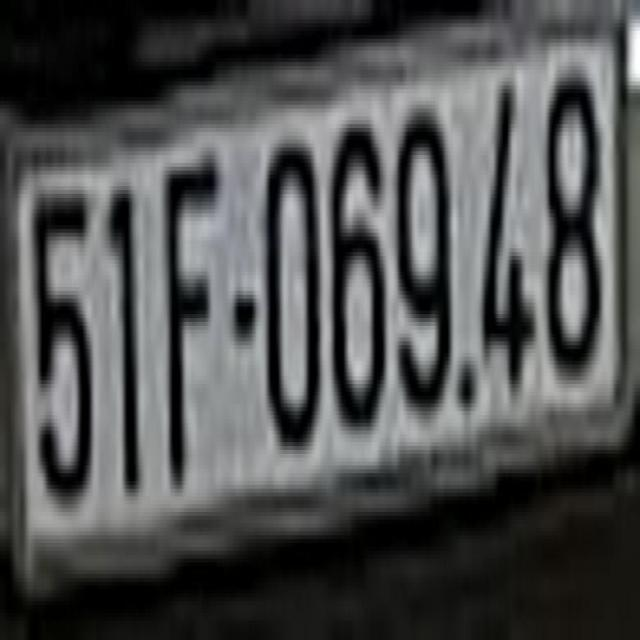0: (263, 120, 324, 438)
1: (106, 170, 148, 492)
4: (477, 74, 536, 407)
5: (36, 182, 94, 504)
6: (330, 104, 386, 430)
8: (546, 70, 600, 384)
9: (396, 112, 452, 419)
F: (158, 159, 218, 504)
